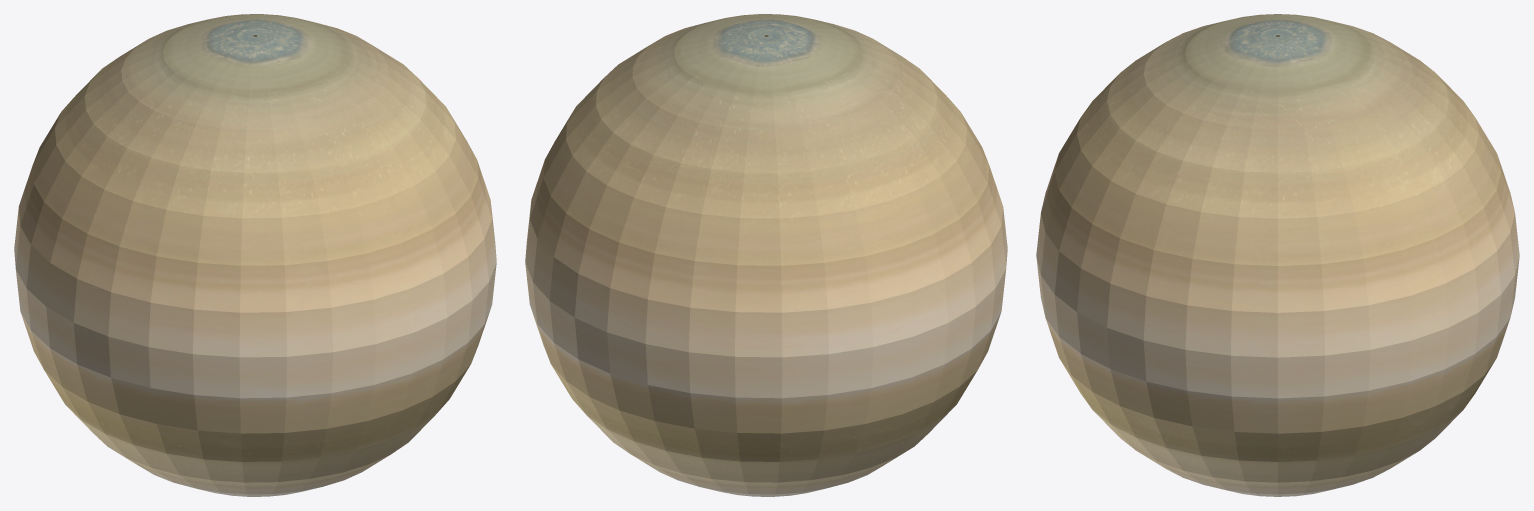
File: HD 134606-movie-88steps0081.obj
3 views of the same model, side by side, from view 1: azimuth 30°, elevation 25°; view 2: azimuth 150°, elevation 25°; view 3: azimuth 270°, elevation 25° (orthographic).
Visible parts, largest first — view 1: Sphere005; view 2: Sphere005; view 3: Sphere005.
Part boxes in pixels (x1,y1,x2,y2): Sphere005: (14, 14, 496, 496); Sphere005: (525, 14, 1007, 496); Sphere005: (1036, 14, 1519, 496).
Bounding box in the file's own units: 0.00836 × 0.00838 × 0.00836.
Materials: 1 (1 with a texture image).
